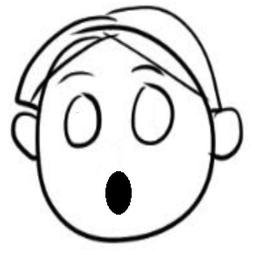ear: (205, 105, 246, 167), (11, 111, 41, 164)
empty_eye: (129, 81, 175, 152), (60, 88, 103, 154)
eyebrow: (55, 70, 94, 85), (129, 66, 165, 76)
open_mouth: (102, 165, 137, 220)
